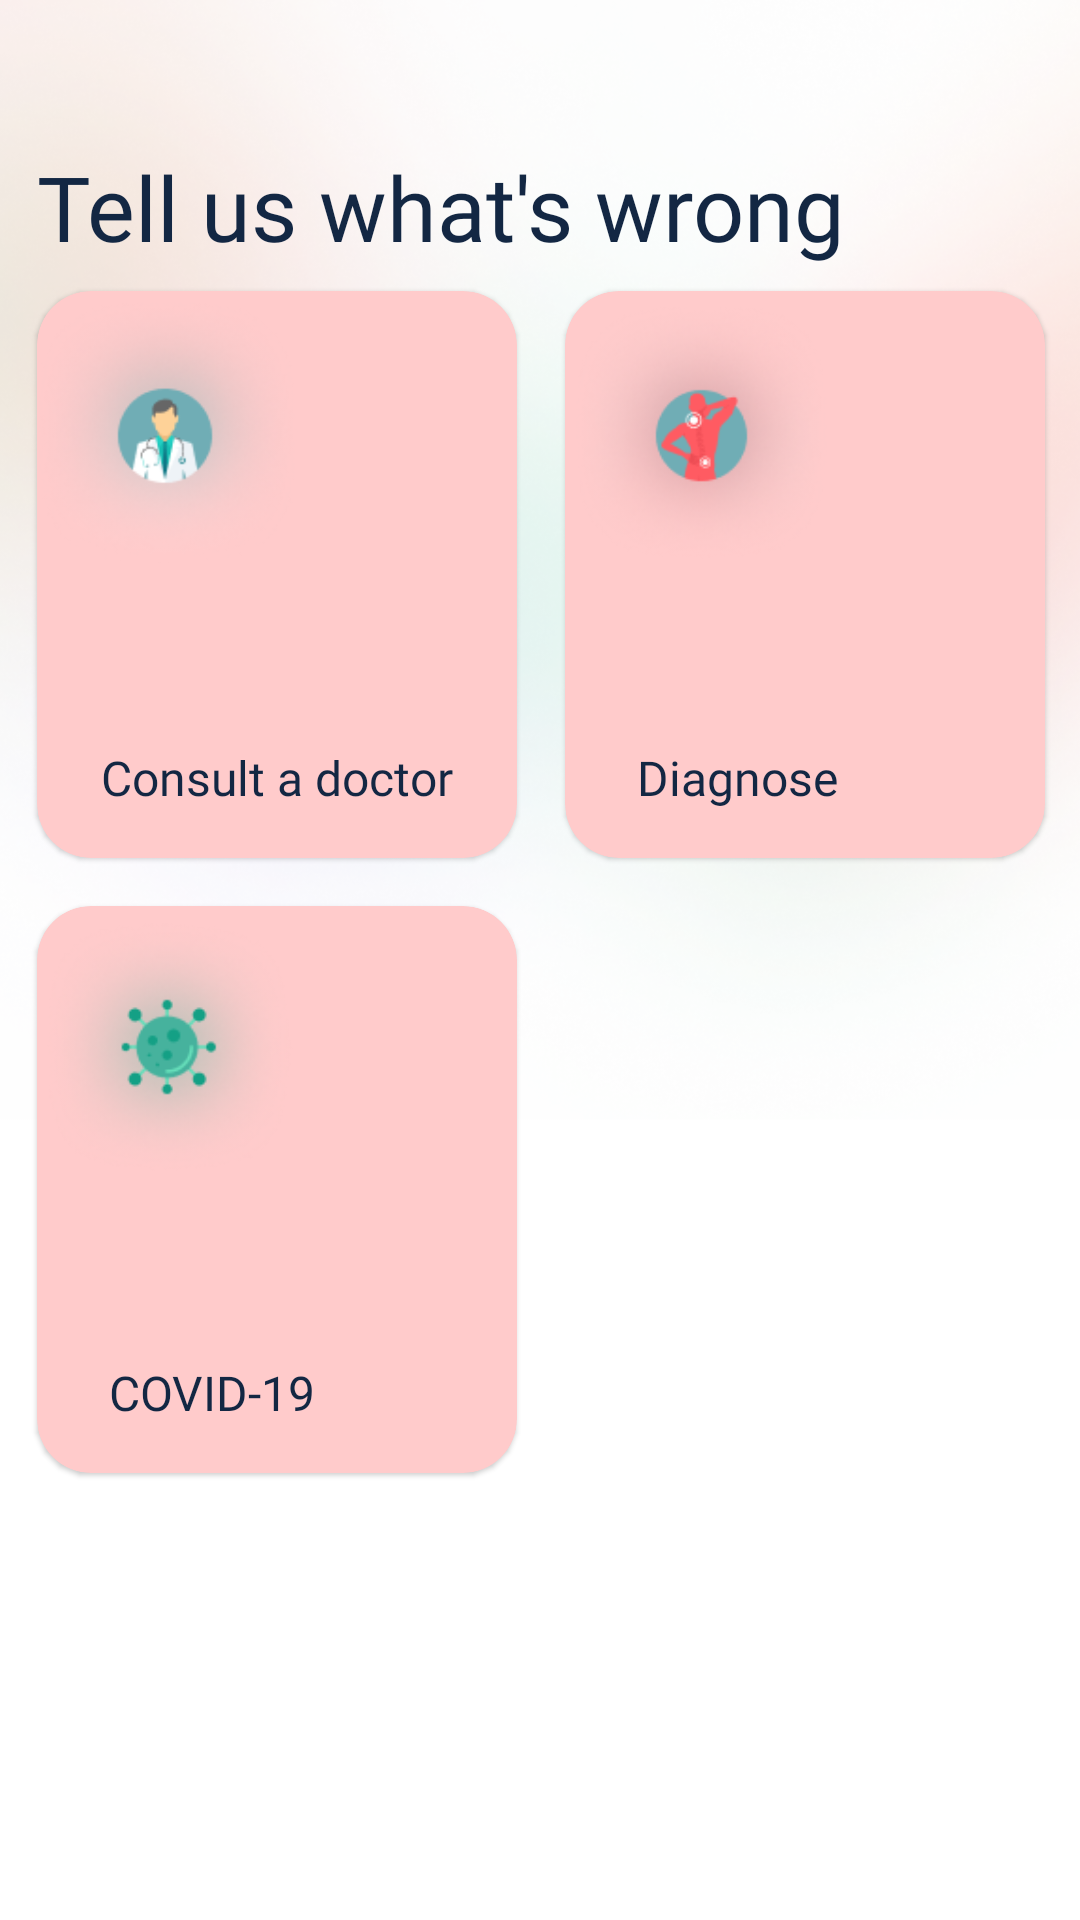

Icons on this 1080 x 1920 Android screen, each with the point to tap as (x=x, y=y):
corona: (x=168, y=1047)
pain: (x=702, y=435)
